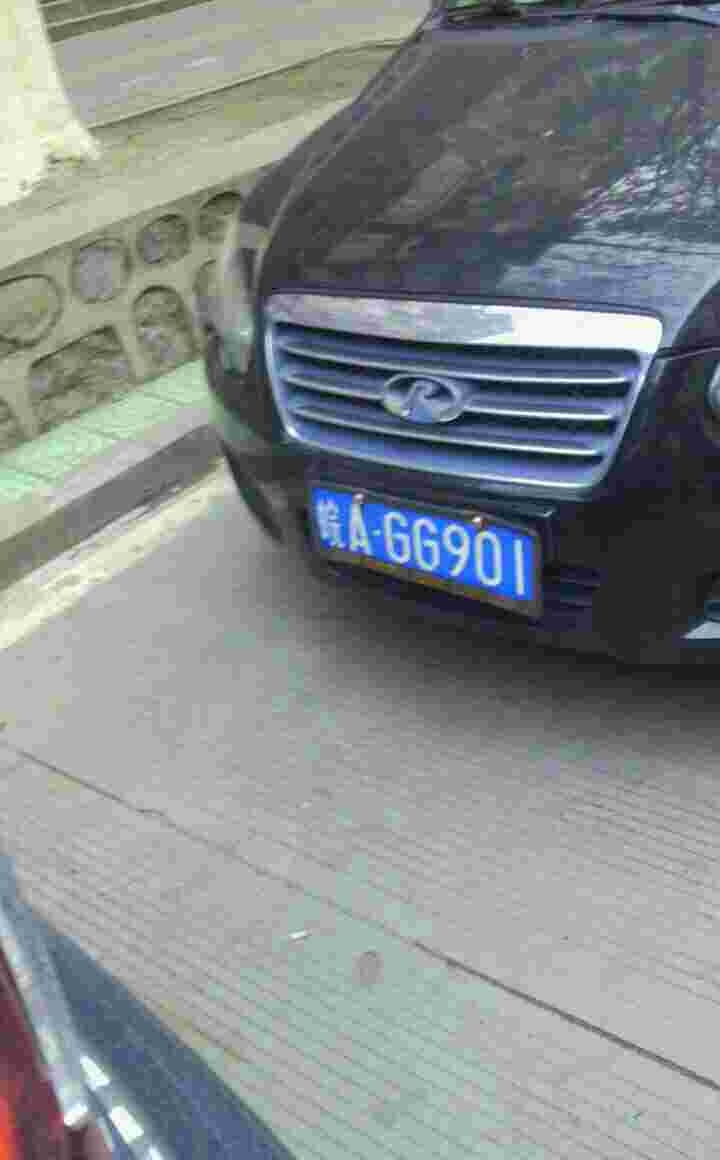license_plate: (299, 483, 533, 598)
